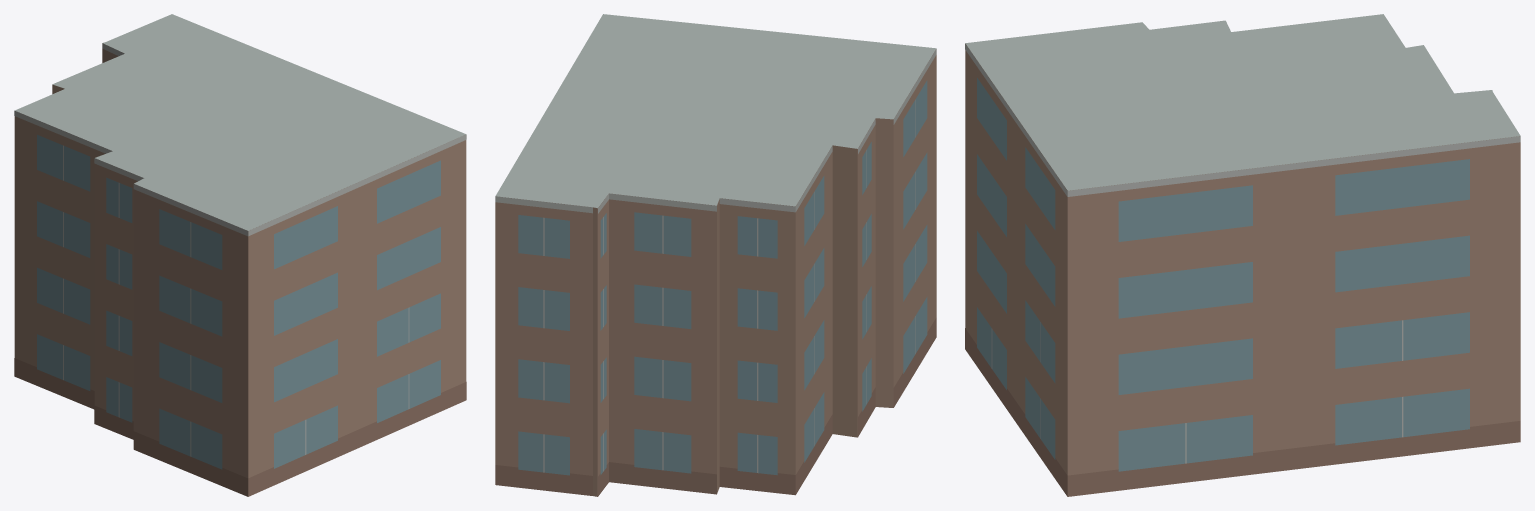
File: survey-upis-32624531.glb
3 renders of one model, left to right at view 1: azimuth 30°, elevation 25°; view 2: azimuth 150°, elevation 25°; view 3: azimuth 270°, elevation 25°, orthographic. The views are drawn at different scales.
Parts seen in each view (by area): view 1: survey-upis-32624531.tmp; view 2: survey-upis-32624531.tmp; view 3: survey-upis-32624531.tmp.
Boxes of the visible parts, x1,y1,x2,y2 form: survey-upis-32624531.tmp: [14, 14, 466, 496]; survey-upis-32624531.tmp: [495, 14, 936, 496]; survey-upis-32624531.tmp: [965, 14, 1520, 496].
Size of the model in its own units: 14.62 by 11.8 by 19.41.
